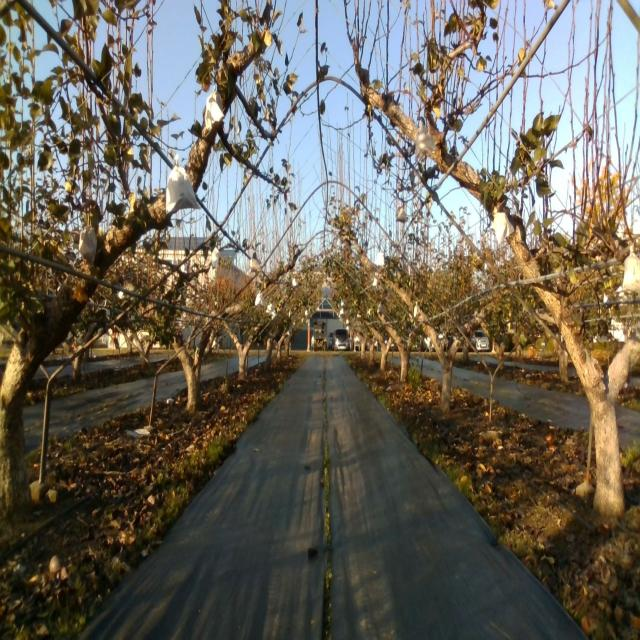pearbags: (164, 155, 199, 216), (202, 87, 226, 130), (623, 239, 640, 293), (492, 207, 515, 246), (414, 124, 436, 160), (78, 225, 97, 266)
